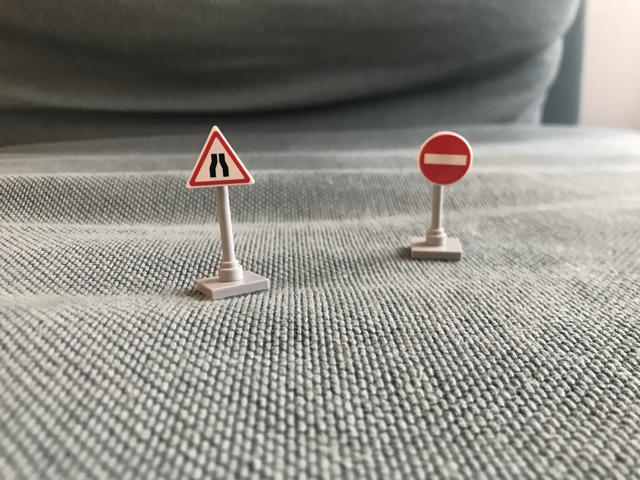verbot der einfahrt: (416, 130, 474, 188)
verengte fahrbahn: (183, 124, 257, 191)
